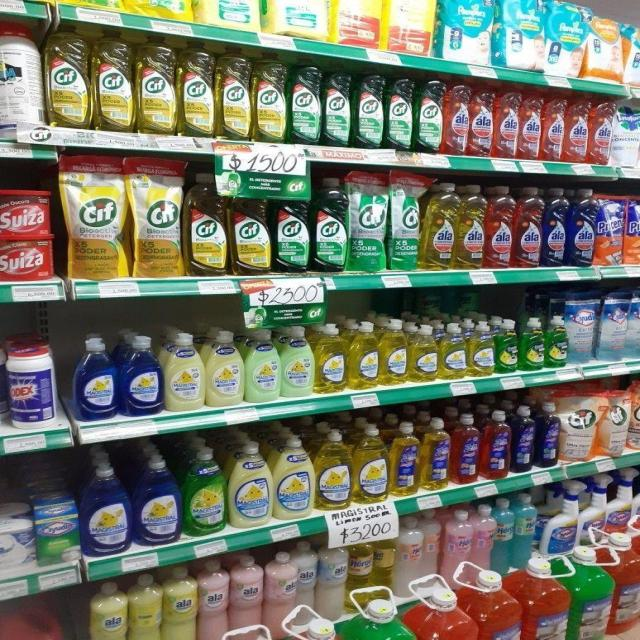ala_conc_amarillo: (422, 182, 456, 270), (456, 183, 485, 270)
ala_conc_azul: (568, 188, 595, 267), (543, 187, 567, 268)
ala_conc_rojo: (486, 184, 514, 270), (514, 186, 542, 269), (444, 82, 469, 156), (494, 88, 520, 159), (469, 85, 494, 157), (520, 91, 543, 161), (566, 95, 589, 163), (543, 94, 565, 162), (590, 98, 611, 164)
ala_crem_amarillo: (163, 564, 196, 640), (88, 580, 127, 640), (128, 572, 162, 640)
ala_crem_blanco: (316, 536, 346, 620), (296, 539, 316, 628)
ala_crem_rosado: (264, 550, 297, 638), (229, 553, 262, 635), (198, 557, 228, 640)
cif_conc_bot_amarilla: (185, 171, 228, 277), (46, 25, 90, 128), (93, 30, 133, 132), (136, 36, 176, 134), (230, 186, 271, 276), (178, 42, 215, 137), (216, 48, 251, 140), (253, 55, 287, 143)
cif_conc_botella_verde: (274, 178, 310, 273), (312, 176, 347, 272), (289, 62, 321, 145), (323, 68, 352, 148), (354, 74, 384, 149), (386, 76, 414, 152), (415, 79, 442, 154)
cif_conc_sachet_amarillo: (64, 153, 126, 280), (130, 156, 182, 278), (560, 386, 596, 464)
cif_conc_sachet_verde: (348, 170, 386, 272), (388, 171, 421, 271)
heroe: (394, 514, 422, 597), (348, 535, 373, 596)
magistral_con_amarillo: (315, 428, 352, 509), (354, 424, 388, 503), (315, 323, 346, 394), (348, 320, 378, 390), (380, 319, 407, 386), (409, 323, 438, 382), (439, 322, 466, 380), (468, 320, 494, 378)
magistral_con_azul: (82, 461, 131, 556), (134, 455, 181, 547), (73, 336, 118, 420), (121, 334, 163, 416)
magistral_con_crema: (229, 441, 271, 528), (274, 436, 313, 520), (166, 332, 204, 411), (207, 329, 243, 407), (245, 328, 279, 402), (282, 325, 314, 398)
zorro: (390, 421, 419, 497), (421, 417, 450, 492), (481, 410, 510, 480), (452, 413, 479, 485)
